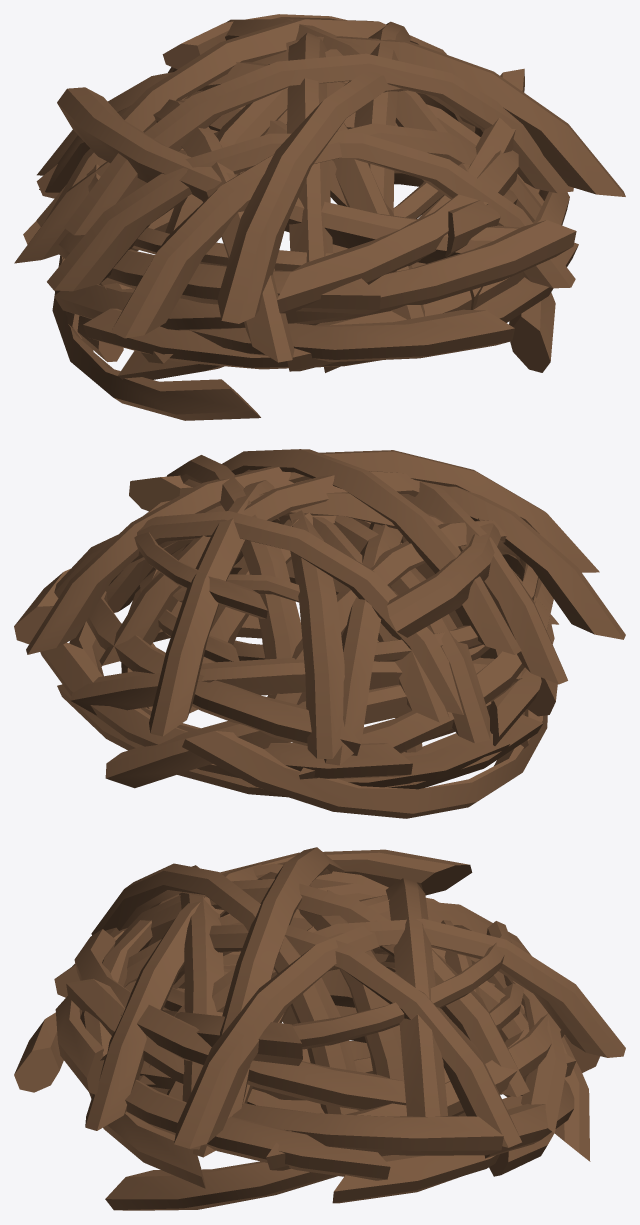
File: Nest.fbx
3 renders of one model, top to bottom at view 1: azimuth 30°, elevation 25°; view 2: azimuth 150°, elevation 25°; view 3: azimuth 270°, elevation 25°, orthographic. The views are drawn at different scales.
Visible parts, largest first — view 1: pasted__pasted__pasted__pSphere8, pasted__pasted__pasted__pasted__pasted__pSphere7, pasted__pasted__pasted__pSphere10, pasted__pasted__pasted__pasted__pSphere4, pasted__pasted__pasted__pasted__pasted__pasted__pSphere6, pasted__pasted__pasted__pasted__pasted__pasted__pSphere5, pasted__pasted__pasted__pSphere12, pasted__pasted__pSphere8, pasted__pasted__pasted__pasted__pasted__pSphere6, pasted__pasted__pasted__pasted__pasted__pasted__pSphere4, pasted__pSphere6, pSphere1 (+19 smaller); view 2: pasted__pSphere6, pasted__pasted__pasted__pasted__pasted__pasted__pSphere4, pasted__pasted__pasted__pSphere8, pasted__pasted__pasted__pasted__pSphere3, pasted__pasted__pasted__pasted__pasted__pSphere3, pasted__pasted__pasted__pSphere6, pasted__pSphere5, pasted__pasted__pasted__pSphere11, pasted__pasted__pSphere7, pasted__pasted__pasted__pasted__pasted__pasted__pSphere6, pasted__pasted__pasted__pSphere3, pasted__pasted__pasted__pasted__pasted__pSphere7 (+23 smaller); view 3: pasted__pasted__pasted__pasted__pasted__pSphere6, pasted__pasted__pasted__pSphere6, pasted__pasted__pSphere8, pasted__pasted__pasted__pasted__pSphere3, pasted__pSphere4, pasted__pasted__pasted__pasted__pSphere4, pasted__pasted__pasted__pasted__pasted__pSphere7, pasted__pasted__pasted__pasted__pasted__pasted__pSphere4, pSphere2, pasted__pasted__pasted__pSphere3, pasted__pasted__pSphere6, pasted__pasted__pasted__pSphere8 (+24 smaller).
Boxes of the visible parts, box(x1,y1,x2,y2) form: pasted__pasted__pasted__pSphere8: box(64, 53, 573, 235); pasted__pasted__pasted__pasted__pasted__pSphere7: box(47, 133, 575, 291); pasted__pasted__pasted__pSphere10: box(54, 220, 576, 330); pasted__pasted__pasted__pasted__pSphere4: box(217, 71, 475, 323); pasted__pasted__pasted__pasted__pasted__pasted__pSphere6: box(111, 123, 541, 338); pasted__pasted__pasted__pasted__pasted__pasted__pSphere5: box(57, 87, 519, 263); pasted__pasted__pasted__pSphere12: box(191, 309, 514, 361); pasted__pasted__pSphere8: box(277, 127, 518, 313); pasted__pasted__pasted__pasted__pasted__pSphere6: box(184, 36, 625, 196); pasted__pasted__pasted__pasted__pasted__pasted__pSphere4: box(45, 18, 446, 220); pasted__pSphere6: box(52, 255, 260, 420); pSphere1: box(83, 242, 578, 369); pasted__pSphere6: box(182, 709, 547, 818); pasted__pasted__pasted__pasted__pasted__pasted__pSphere4: box(54, 511, 463, 714); pasted__pasted__pasted__pSphere8: box(222, 449, 521, 654); pasted__pasted__pasted__pasted__pSphere3: box(149, 480, 274, 736); pasted__pasted__pasted__pasted__pasted__pSphere3: box(278, 510, 344, 758); pasted__pasted__pasted__pSphere6: box(26, 467, 406, 654); pasted__pSphere5: box(40, 642, 509, 787); pasted__pasted__pasted__pSphere11: box(86, 591, 360, 755); pasted__pasted__pSphere7: box(70, 658, 519, 715); pasted__pasted__pasted__pasted__pasted__pasted__pSphere6: box(433, 483, 625, 639); pasted__pasted__pasted__pSphere3: box(99, 471, 507, 665); pasted__pasted__pasted__pasted__pasted__pSphere7: box(402, 481, 567, 684); pasted__pasted__pasted__pasted__pasted__pSphere6: box(174, 920, 507, 1148); pasted__pasted__pasted__pSphere6: box(173, 924, 521, 1147); pasted__pasted__pSphere8: box(74, 929, 406, 1110); pasted__pasted__pasted__pasted__pSphere3: box(138, 918, 625, 1084); pasted__pSphere4: box(166, 1094, 503, 1155); pasted__pasted__pasted__pasted__pSphere4: box(91, 863, 359, 1114); pasted__pasted__pasted__pasted__pasted__pSphere7: box(85, 863, 261, 1130); pasted__pasted__pasted__pasted__pasted__pasted__pSphere4: box(385, 878, 447, 1116); pSphere2: box(125, 1080, 390, 1180); pasted__pasted__pasted__pSphere3: box(114, 878, 529, 1097); pasted__pasted__pSphere6: box(105, 1013, 529, 1210); pasted__pasted__pasted__pSphere8: box(215, 847, 344, 1118).
Bounding box in the file's own units: 2.37 × 1.32 × 2.54.
